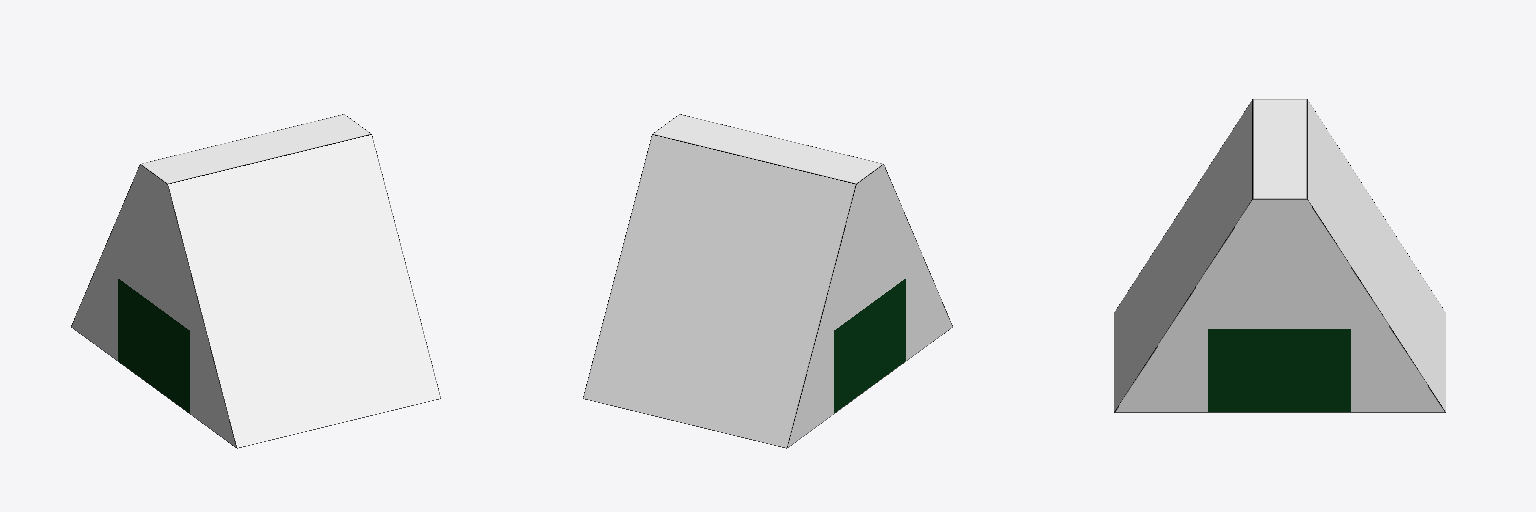
The picture shows the model from 3 angles: view 1: azimuth 30°, elevation 25°; view 2: azimuth 150°, elevation 25°; view 3: azimuth 270°, elevation 25°; orthographic projection.
Parts seen in each view (by area): view 1: Cube; view 2: Cube; view 3: Cube.
Part boxes in pixels (left/top/right/bottom): Cube: left=71, top=114, right=440, bottom=448; Cube: left=583, top=114, right=952, bottom=448; Cube: left=1114, top=99, right=1445, bottom=412.
Size of the model in its own units: 1.2 by 1.2 by 1.69.
Materials: 1 (1 with a texture image).